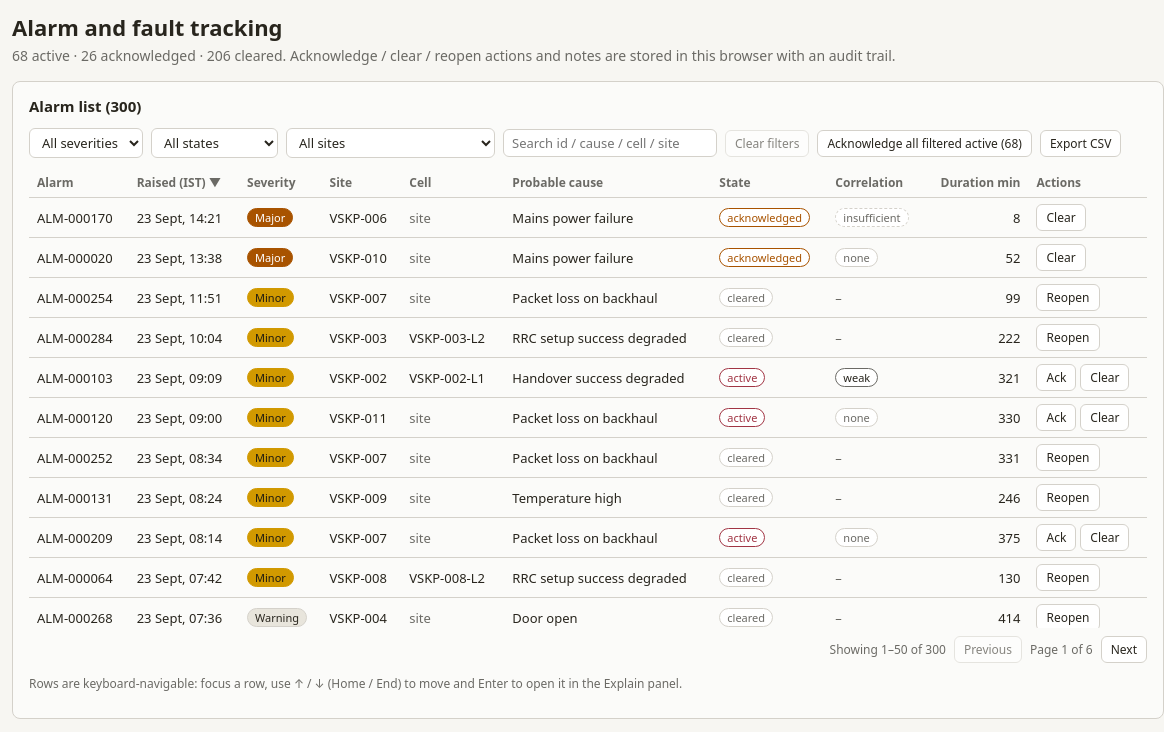
Test: Alarms page — table, filters, pagination › narrows the rows when a severity is picked and writes the filter to the URL
Select "Critical" in the dropdown named "Severity filter". click: (86, 143)
box: [29,128,143,158]
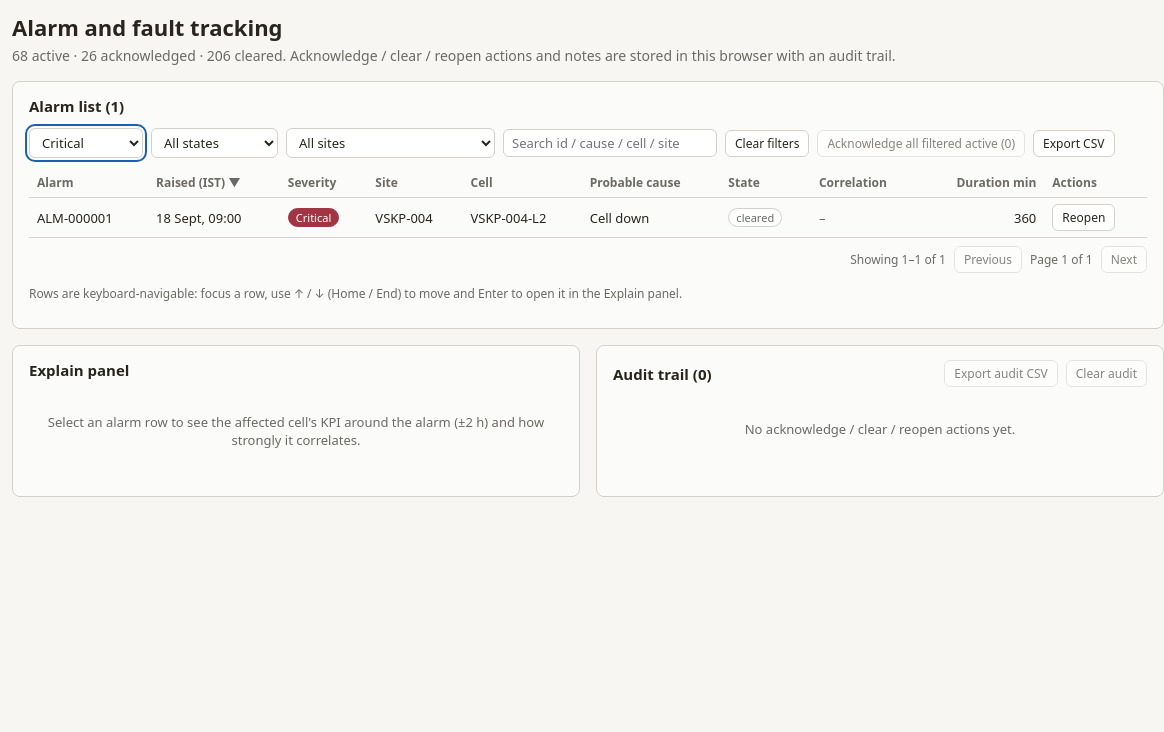
Now the row that starts with "ALM-000001" is shown, box [37,208,113,226]
